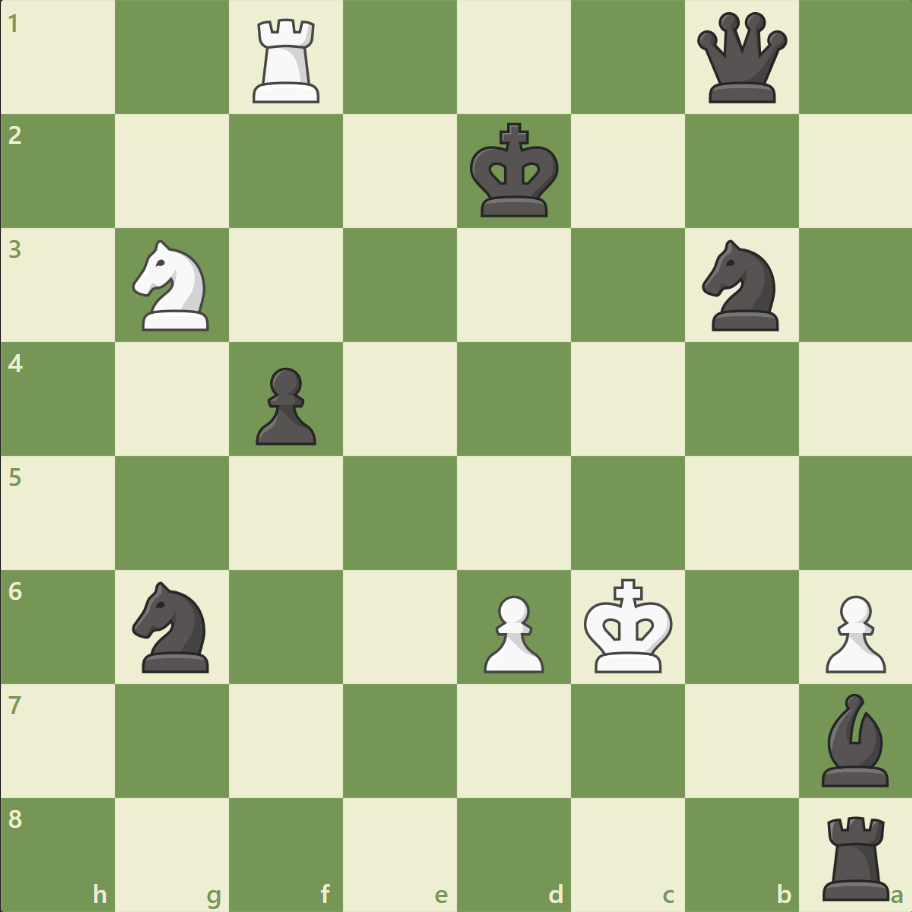K: (579, 571, 679, 679)
N: (124, 234, 222, 337)
P: (474, 586, 549, 677), (815, 586, 889, 677)
R: (246, 12, 329, 109)
b: (812, 687, 896, 790)
k: (465, 117, 565, 225)
n: (124, 575, 222, 677), (692, 234, 789, 337)
p: (247, 359, 322, 450)
q: (691, 9, 790, 108)
r: (814, 806, 897, 904)
